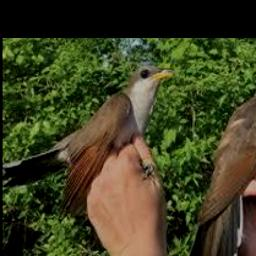Cuckoo: (2, 65, 173, 220), (189, 78, 256, 256)
